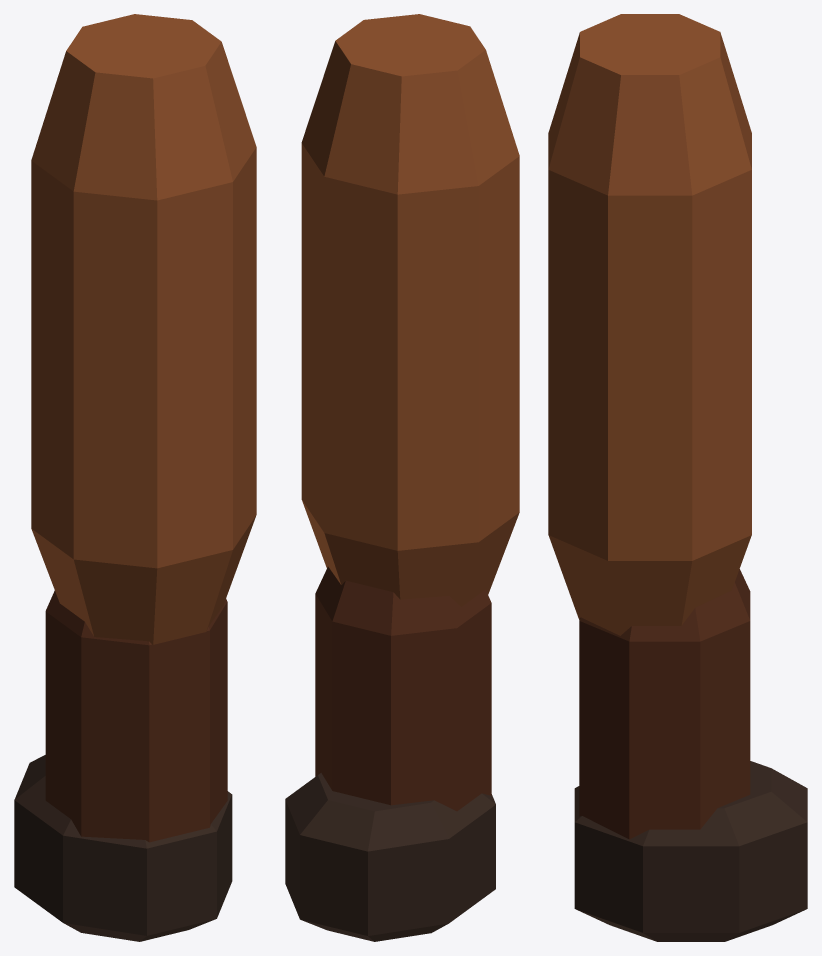
The model's file is cow-brown-leg.obj.
3 renders of one model, left to right at view 1: azimuth 30°, elevation 25°; view 2: azimuth 150°, elevation 25°; view 3: azimuth 270°, elevation 25°, orthographic. The views are drawn at different scales.
Visible parts, largest first — view 1: cow-brown-leg; view 2: cow-brown-leg; view 3: cow-brown-leg.
Part boxes in pixels (x1,y1,x2,y2): cow-brown-leg: (14, 14, 256, 941); cow-brown-leg: (285, 14, 519, 941); cow-brown-leg: (548, 14, 807, 941).
Bounding box in the file's own units: 0.1996 × 0.912 × 0.2465.
